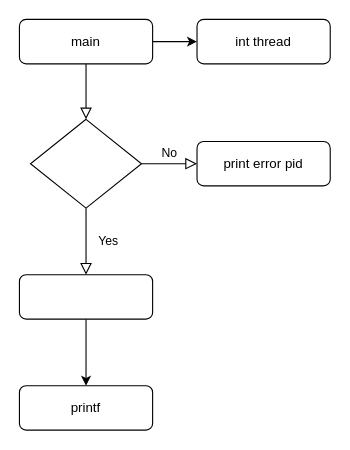
This 350x450 diagram has some shape labels left out. Each missing label, with the centre of its shape:
"parse table" goes at (85,296).
"pid?" goes at (85,163).
